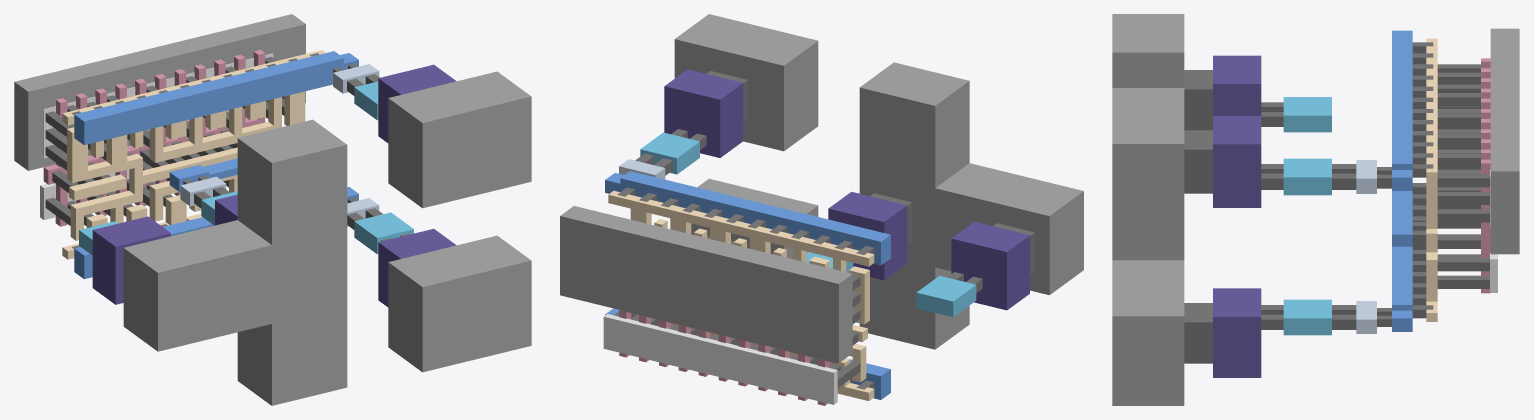
File: sky130_fd_sc_hd__probec_p_8.gds.gltf
3 renders of one model, left to right at view 1: azimuth 30°, elevation 25°; view 2: azimuth 150°, elevation 25°; view 3: azimuth 270°, elevation 25°, orthographic. The views are drawn at different scales.
Visible parts, largest first — view 1: sky130_fd_sc_hd__probec_p_8_met5, sky130_fd_sc_hd__probec_p_8_li1, sky130_fd_sc_hd__probec_p_8_nwell, sky130_fd_sc_hd__probec_p_8_met1, sky130_fd_sc_hd__probec_p_8_met4, sky130_fd_sc_hd__probec_p_8_licon, sky130_fd_sc_hd__probec_p_8_poly, sky130_fd_sc_hd__probec_p_8_met3, sky130_fd_sc_hd__probec_p_8_met2, sky130_fd_sc_hd__probec_p_8_diff, sky130_fd_sc_hd__probec_p_8_via2; view 2: sky130_fd_sc_hd__probec_p_8_met5, sky130_fd_sc_hd__probec_p_8_nwell, sky130_fd_sc_hd__probec_p_8_met4, sky130_fd_sc_hd__probec_p_8_diff, sky130_fd_sc_hd__probec_p_8_li1, sky130_fd_sc_hd__probec_p_8_met1, sky130_fd_sc_hd__probec_p_8_met3, sky130_fd_sc_hd__probec_p_8_poly, sky130_fd_sc_hd__probec_p_8_mcon, sky130_fd_sc_hd__probec_p_8_licon, sky130_fd_sc_hd__probec_p_8_via4, sky130_fd_sc_hd__probec_p_8_met2 (+1 smaller); view 3: sky130_fd_sc_hd__probec_p_8_met5, sky130_fd_sc_hd__probec_p_8_met4, sky130_fd_sc_hd__probec_p_8_licon, sky130_fd_sc_hd__probec_p_8_nwell, sky130_fd_sc_hd__probec_p_8_met1, sky130_fd_sc_hd__probec_p_8_met3, sky130_fd_sc_hd__probec_p_8_via4, sky130_fd_sc_hd__probec_p_8_mcon, sky130_fd_sc_hd__probec_p_8_li1, sky130_fd_sc_hd__probec_p_8_via3, sky130_fd_sc_hd__probec_p_8_poly, sky130_fd_sc_hd__probec_p_8_met2 (+3 smaller).
Boxes of the visible parts, x1,y1,x2,y2 form: sky130_fd_sc_hd__probec_p_8_met5: [123, 71, 531, 405]; sky130_fd_sc_hd__probec_p_8_li1: [62, 50, 325, 259]; sky130_fd_sc_hd__probec_p_8_nwell: [14, 14, 305, 170]; sky130_fd_sc_hd__probec_p_8_met1: [74, 51, 358, 279]; sky130_fd_sc_hd__probec_p_8_met4: [92, 64, 456, 307]; sky130_fd_sc_hd__probec_p_8_licon: [45, 57, 284, 225]; sky130_fd_sc_hd__probec_p_8_poly: [43, 50, 265, 226]; sky130_fd_sc_hd__probec_p_8_met3: [79, 81, 413, 255]; sky130_fd_sc_hd__probec_p_8_met2: [180, 64, 379, 226]; sky130_fd_sc_hd__probec_p_8_diff: [40, 53, 273, 219]; sky130_fd_sc_hd__probec_p_8_via2: [194, 74, 382, 229]; sky130_fd_sc_hd__probec_p_8_met5: [674, 14, 1083, 349]; sky130_fd_sc_hd__probec_p_8_nwell: [560, 206, 852, 363]; sky130_fd_sc_hd__probec_p_8_met4: [664, 69, 1029, 310]; sky130_fd_sc_hd__probec_p_8_diff: [603, 314, 837, 404]; sky130_fd_sc_hd__probec_p_8_li1: [608, 190, 874, 400]; sky130_fd_sc_hd__probec_p_8_met1: [605, 171, 890, 399]; sky130_fd_sc_hd__probec_p_8_met3: [640, 132, 976, 317]; sky130_fd_sc_hd__probec_p_8_poly: [619, 310, 837, 405]; sky130_fd_sc_hd__probec_p_8_mcon: [617, 187, 874, 389]; sky130_fd_sc_hd__probec_p_8_licon: [614, 220, 860, 387]; sky130_fd_sc_hd__probec_p_8_via4: [706, 71, 1034, 275]; sky130_fd_sc_hd__probec_p_8_met2: [619, 159, 665, 179]; sky130_fd_sc_hd__probec_p_8_met5: [1112, 14, 1184, 405]; sky130_fd_sc_hd__probec_p_8_met4: [1213, 55, 1261, 377]; sky130_fd_sc_hd__probec_p_8_licon: [1437, 64, 1489, 288]; sky130_fd_sc_hd__probec_p_8_nwell: [1490, 28, 1519, 254]; sky130_fd_sc_hd__probec_p_8_met1: [1392, 30, 1412, 331]; sky130_fd_sc_hd__probec_p_8_met3: [1283, 97, 1331, 335]; sky130_fd_sc_hd__probec_p_8_via4: [1184, 70, 1212, 363]; sky130_fd_sc_hd__probec_p_8_mcon: [1412, 42, 1433, 318]; sky130_fd_sc_hd__probec_p_8_li1: [1426, 38, 1437, 321]; sky130_fd_sc_hd__probec_p_8_via3: [1261, 102, 1283, 329]; sky130_fd_sc_hd__probec_p_8_poly: [1481, 58, 1490, 293]; sky130_fd_sc_hd__probec_p_8_met2: [1356, 160, 1376, 333].
Bounding box in the file's own units: 7.93 × 5.06 × 7.13.
